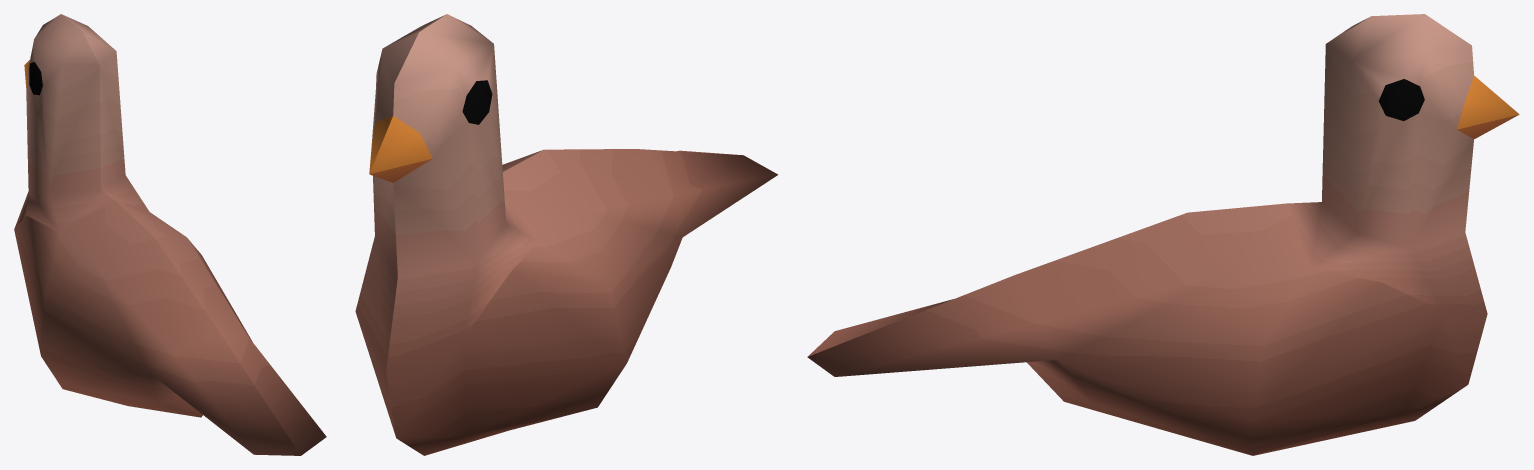
Rendered from 0.00_Generic_flyingBirdBrown.glb.
The picture shows the model from 3 angles, left to right: view 1: azimuth 30°, elevation 25°; view 2: azimuth 150°, elevation 25°; view 3: azimuth 270°, elevation 25°; orthographic projection. The views are drawn at different scales.
Visible parts, largest first — view 1: flyingBird_body_mesh_mesh; view 2: flyingBird_body_mesh_mesh; view 3: flyingBird_body_mesh_mesh.
Boxes of the visible parts, x1,y1,x2,y2 form: flyingBird_body_mesh_mesh: [14, 14, 326, 455]; flyingBird_body_mesh_mesh: [355, 14, 777, 455]; flyingBird_body_mesh_mesh: [807, 14, 1519, 455].
Size of the model in its own units: 2.66 by 5.01 by 7.32.
Materials: 1 (1 with a texture image).
